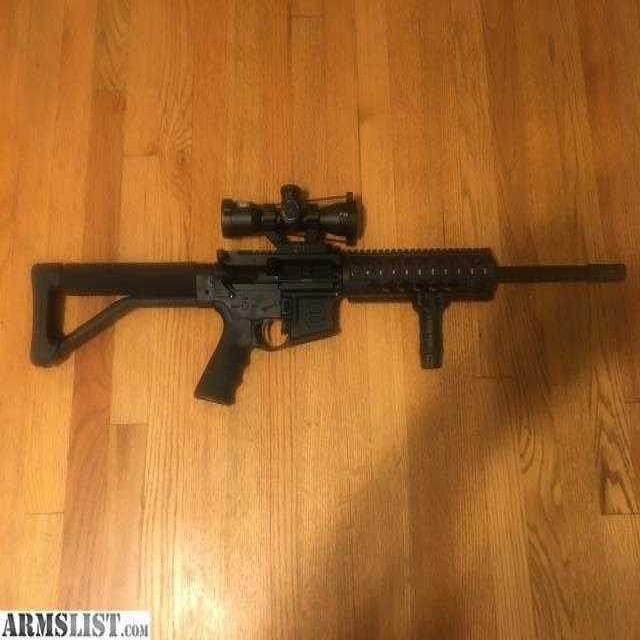weapon: (25, 161, 631, 447)
